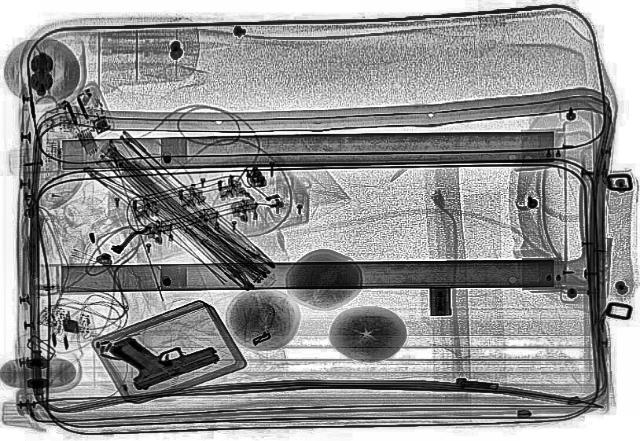Gun: (97, 315, 226, 391)
